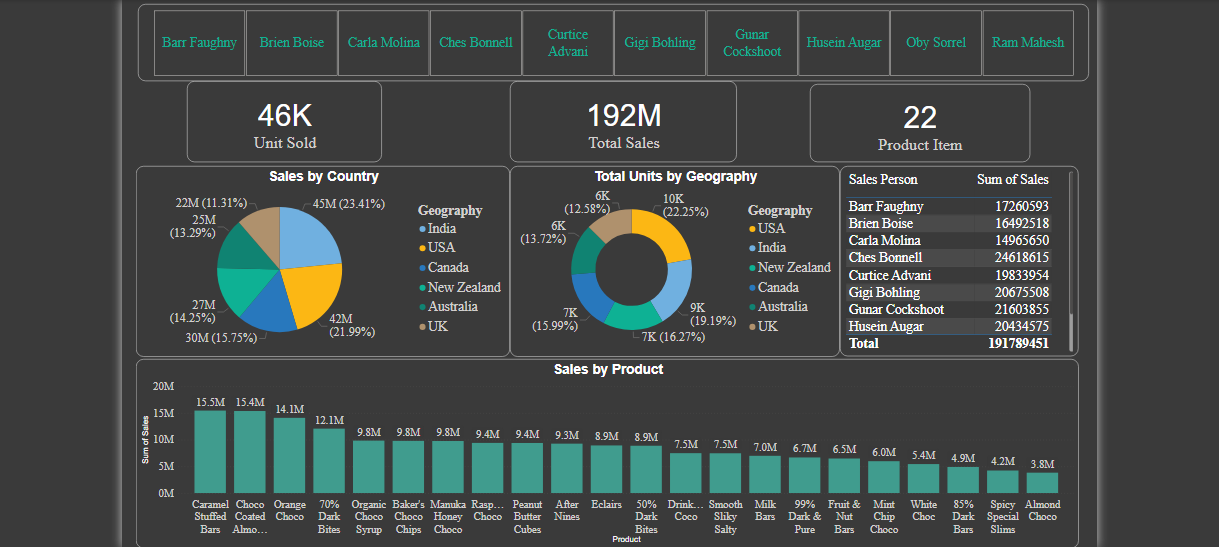

What the dashboard file says about the page in this screenshot:
{"tool":"powerbi","page":{"name":"Page 1","canvas":[1920,1080],"ordinal":0},"visuals":[{"type":"card","fields":{"Values":["Sales.Units"]},"box":[128.1,159.6,384.3,159.6],"z":0},{"type":"pieChart","title":"Sales by Country","fields":{"Category":["Sales.Geography"],"Y":["Sales.Sales"]},"box":[27.6,327.2,737.1,376.4],"z":1000},{"type":"card","fields":{"Values":["Sales.Sales"]},"box":[764.7,159.6,447.4,159.6],"z":2000},{"type":"lineStackedColumnComboChart","title":"Sales by Product","fields":{"Category":["Sales.Product"],"Y":["Sales.Sales"]},"box":[26.8,707.4,1858.1,373.3],"z":3000},{"type":"card","fields":{"Values":["Sales.Product"]},"box":[1355.9,165.5,433.6,153.7],"z":4000},{"type":"donutChart","title":"Total Units by Geography","fields":{"Category":["Sales.Geography"],"Y":["Sales.Units"]},"box":[764.7,327.2,650.4,376.4],"z":5000},{"type":"slicer","fields":{"Values":["Sales.Sales Person"]},"box":[31.5,7.9,1874.2,151.8],"z":6000},{"type":"tableEx","fields":{"Values":["Sales.Sales Person","Sales.Sales"]},"box":[1414.7,327.9,470.2,375.3],"z":7000}]}

Visuals, with their boxes on the page's 1920x1080 design canvas (x1, y1, x2, y2). These are canvas units, not pixel positions in the 1219x547 screenshot, which may show the page scaled, cropped or inside an application window:
card - Sales.Units: 128:160:512:319
"Sales by Country" pieChart: 28:327:765:704
card - Sales.Sales: 765:160:1212:319
"Sales by Product" lineStackedColumnComboChart: 27:707:1885:1081
card - Sales.Product: 1356:166:1790:319
"Total Units by Geography" donutChart: 765:327:1415:704
slicer - Sales.Sales Person: 32:8:1906:160
tableEx - Sales.Sales Person x Sales.Sales: 1415:328:1885:703
